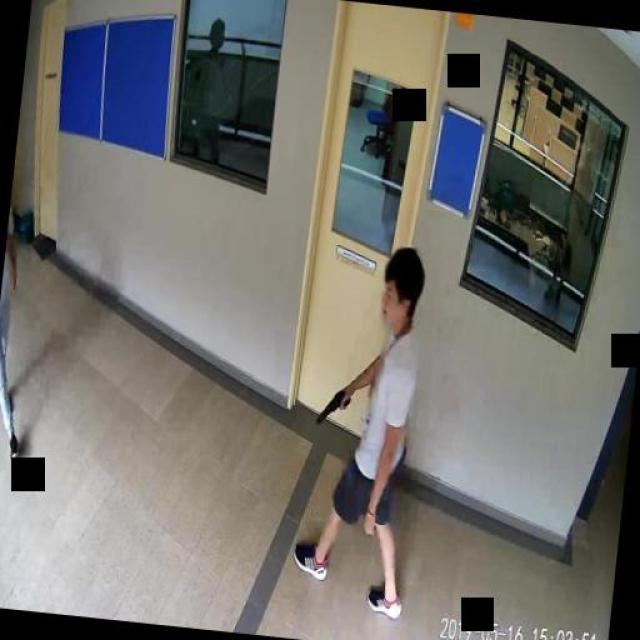gun: (316, 380, 350, 425)
